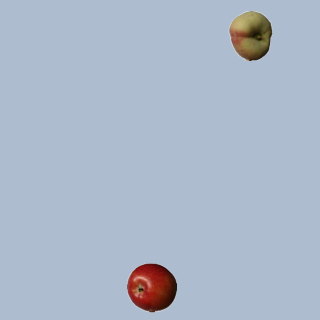Apple Braeburn: (126, 262, 176, 312)
Peach Flat: (225, 10, 275, 60)
